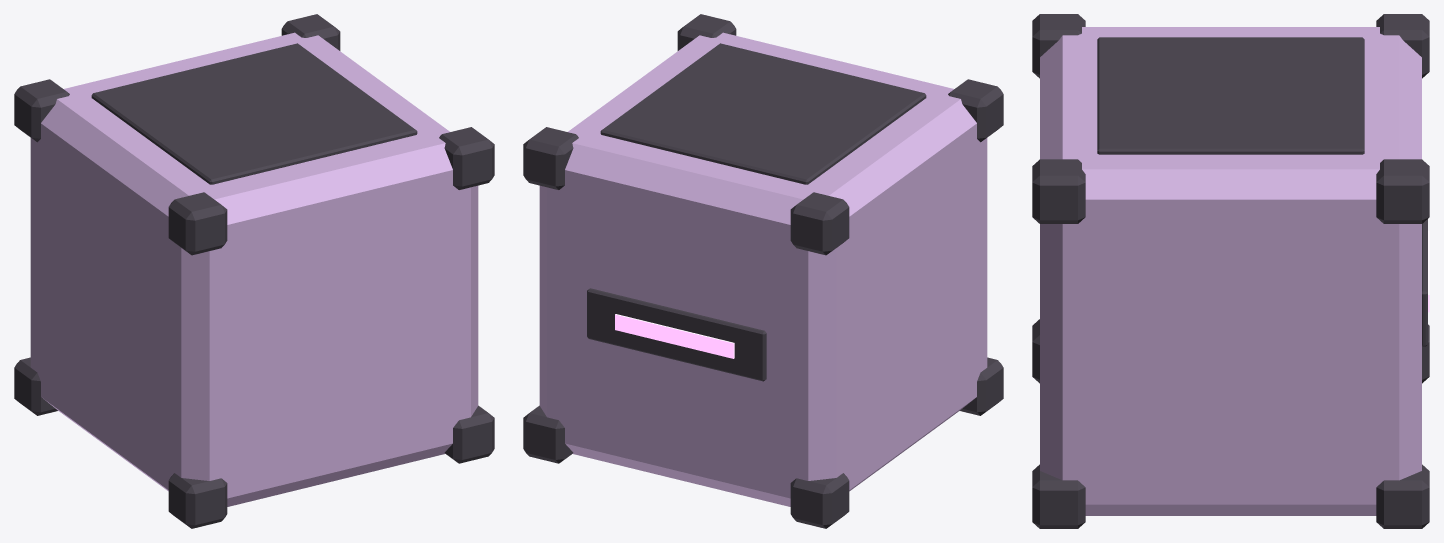
The model's file is v_ab_crate.glb.
The picture shows the model from 3 angles, left to right: view 1: azimuth 30°, elevation 25°; view 2: azimuth 150°, elevation 25°; view 3: azimuth 270°, elevation 25°; orthographic projection. The views are drawn at different scales.
Parts seen in each view (by area): view 1: Crate; view 2: Crate; view 3: Crate.
Boxes of the visible parts, x1=… form: Crate: x1=14, y1=14, x2=494, y2=528; Crate: x1=523, y1=14, x2=1003, y2=528; Crate: x1=1032, y1=14, x2=1429, y2=528.
Size of what is drawn, in the model's own units: 1.04 by 1.02 by 1.04.
